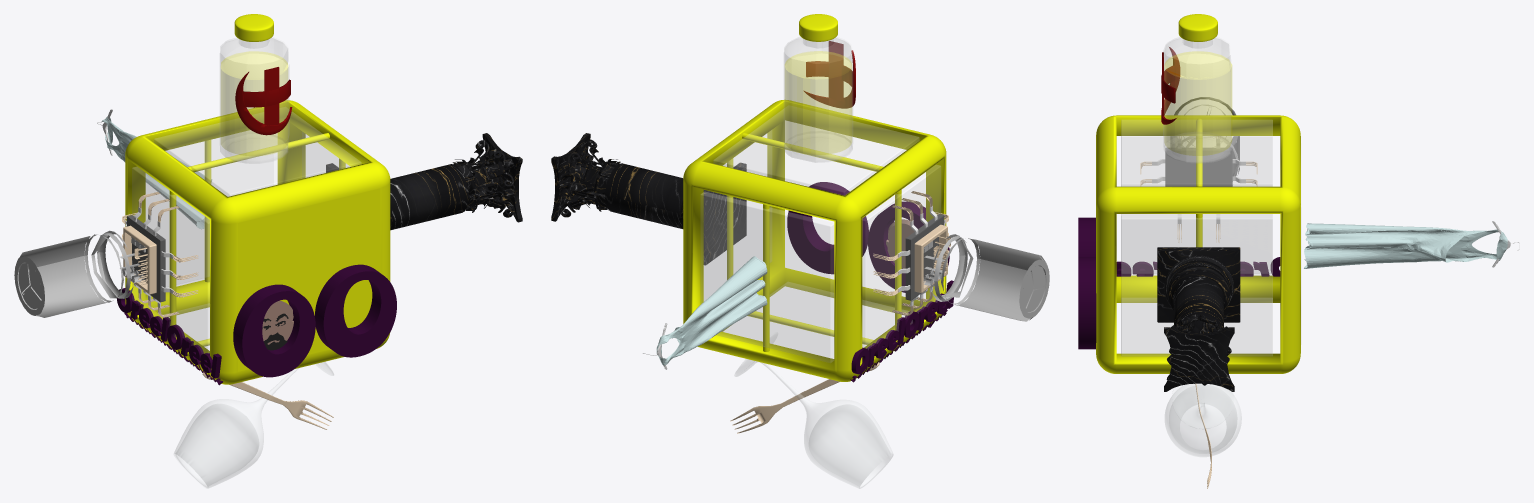
Rendered from HEXplainRBST5.glb.
The picture shows the model from 3 angles, left to right: view 1: azimuth 30°, elevation 25°; view 2: azimuth 150°, elevation 25°; view 3: azimuth 270°, elevation 25°; orthographic projection.
Parts seen in each view (by area): view 1: HEX, OO, RMDY, CTHD, VSUL:Cathodic:cth9, MRKT_bottle, nurbsToPoly1, GRMN, MRKT_bottleLiquid, ANMT:BDY, OreelOreel, DRESS (+15 smaller); view 2: HEX, GRMN, MRKT_bottle, RMDY, CTHD, VSUL:Cathodic:cth9, MRKT_bottleLiquid, nurbsToPoly1, GRNT, FDBV, OO, DRESS (+18 smaller); view 3: HEX, GRNT, CTHD, MRKT_bottle, RMDY, DRESS, MRKT_bottleLiquid, nurbsToPoly1, FDBV, ANMT:crown, ANMT:pCube43, OO (+8 smaller).
Boxes of the visible parts, bbox=[...] form: HEX: bbox=[125, 100, 390, 384]; OO: bbox=[233, 264, 396, 377]; RMDY: bbox=[154, 109, 361, 196]; CTHD: bbox=[132, 167, 209, 353]; VSUL:Cathodic:cth9: bbox=[14, 230, 140, 317]; MRKT_bottle: bbox=[220, 37, 289, 163]; nurbsToPoly1: bbox=[174, 362, 333, 488]; GRMN: bbox=[146, 138, 273, 286]; MRKT_bottleLiquid: bbox=[221, 51, 287, 155]; ANMT:BDY: bbox=[390, 164, 468, 230]; OreelOreel: bbox=[117, 288, 221, 378]; DRESS: bbox=[101, 116, 211, 229]; HEX: bbox=[683, 100, 946, 381]; GRMN: bbox=[700, 192, 833, 362]; MRKT_bottle: bbox=[784, 37, 852, 162]; RMDY: bbox=[713, 109, 919, 195]; CTHD: bbox=[862, 165, 940, 349]; VSUL:Cathodic:cth9: bbox=[924, 234, 1049, 321]; MRKT_bottleLiquid: bbox=[785, 51, 851, 154]; nurbsToPoly1: bbox=[734, 359, 893, 488]; GRNT: bbox=[704, 130, 771, 300]; FDBV: bbox=[722, 282, 908, 358]; OO: bbox=[787, 182, 949, 292]; DRESS: bbox=[656, 256, 767, 365]; HEX: bbox=[1096, 115, 1300, 373]; GRNT: bbox=[1121, 215, 1272, 356]; CTHD: bbox=[1121, 136, 1272, 273]; MRKT_bottle: bbox=[1163, 37, 1230, 163]; RMDY: bbox=[1121, 120, 1272, 186]; DRESS: bbox=[1304, 223, 1507, 268]; MRKT_bottleLiquid: bbox=[1164, 51, 1231, 155]; nurbsToPoly1: bbox=[1165, 384, 1241, 456]; FDBV: bbox=[1121, 298, 1272, 352]; ANMT:crown: bbox=[1164, 327, 1234, 391]; ANMT:pCube43: bbox=[1157, 247, 1240, 322]; OO: bbox=[1078, 217, 1096, 349].
Bounding box in the file's own units: 14.46 × 13.33 × 11.74.
Materials: 15 (1 with a texture image).
